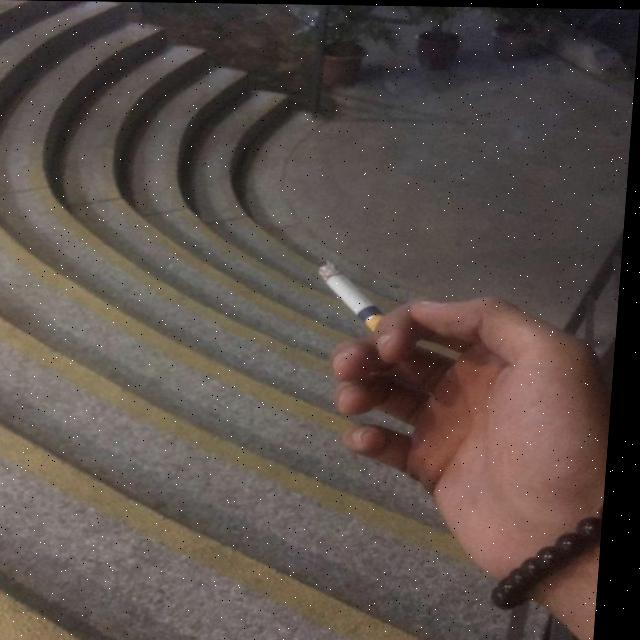cigarette: (321, 259, 388, 327)
